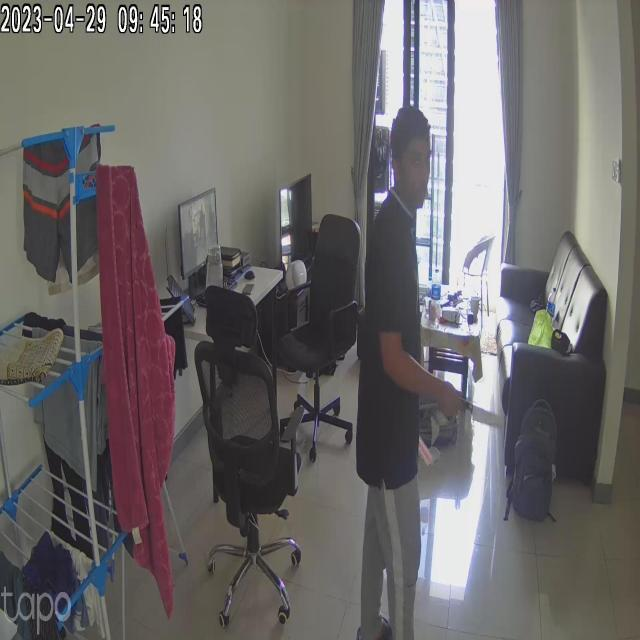Knife: (455, 389, 507, 434)
